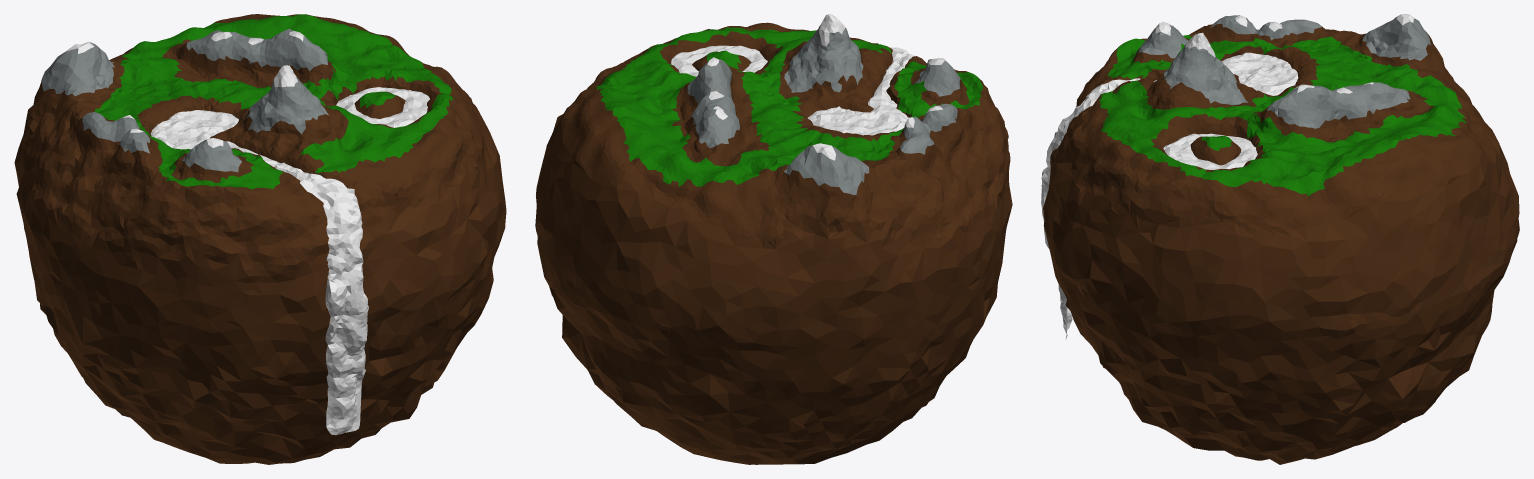
Rendered from Hauptwelt.fbx.
3 views of the same model, side by side, from view 1: azimuth 30°, elevation 25°; view 2: azimuth 150°, elevation 25°; view 3: azimuth 270°, elevation 25° (orthographic). The views are drawn at different scales.
Visible parts, largest first — view 1: Icosphere, Plane; view 2: Icosphere, Plane; view 3: Icosphere, Plane.
Part boxes in pixels (x1,y1,x2,y2): Icosphere: (14,14,506,464); Plane: (151,87,429,435); Icosphere: (535,14,1012,464); Plane: (671,45,914,135); Icosphere: (1043,14,1519,464); Plane: (1041,52,1298,338).
Bounding box in the file's own units: 77374 × 72062 × 77584.
